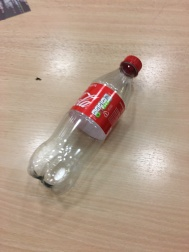bottle_red: (21, 38, 158, 197)
